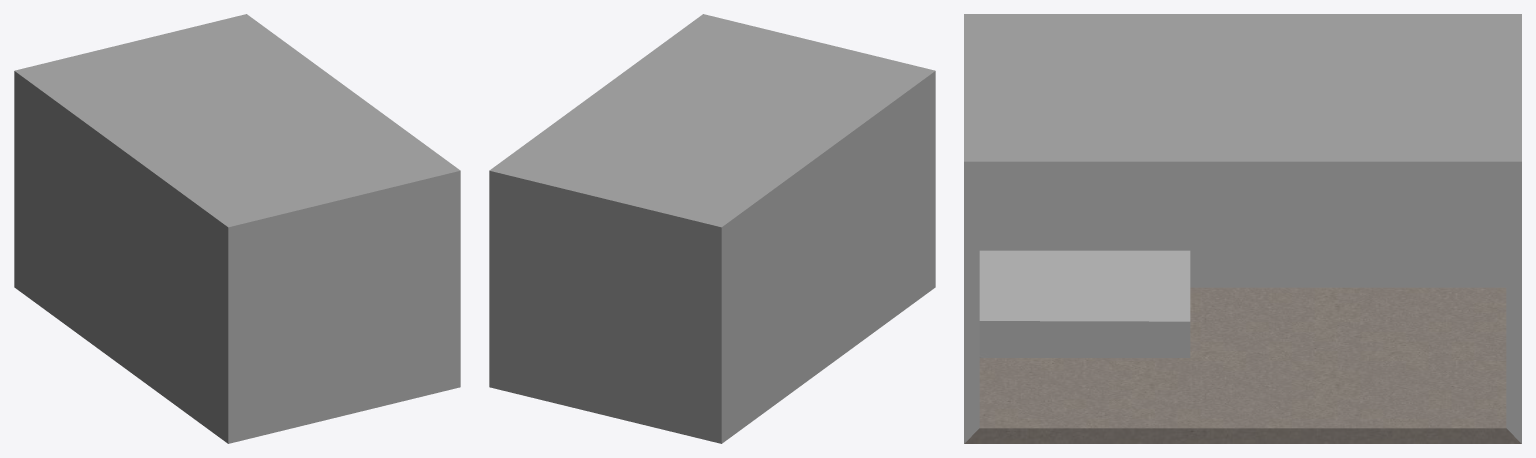
The model's file is Room_LeftPlatform.fbx.
The picture shows the model from 3 angles, left to right: view 1: azimuth 30°, elevation 25°; view 2: azimuth 150°, elevation 25°; view 3: azimuth 270°, elevation 25°; orthographic projection. The views are drawn at different scales.
Parts seen in each view (by area): view 1: Room_LeftPlatform; view 2: Room_LeftPlatform; view 3: Room_LeftPlatform.
Part boxes in pixels (box(x1,y1,x2,y2)): Room_LeftPlatform: box(14, 14, 460, 443); Room_LeftPlatform: box(489, 14, 935, 443); Room_LeftPlatform: box(964, 14, 1521, 443).
Bounding box in the file's own units: 4.33 × 3.86 × 6.91.
Materials: 3 (2 with a texture image).
